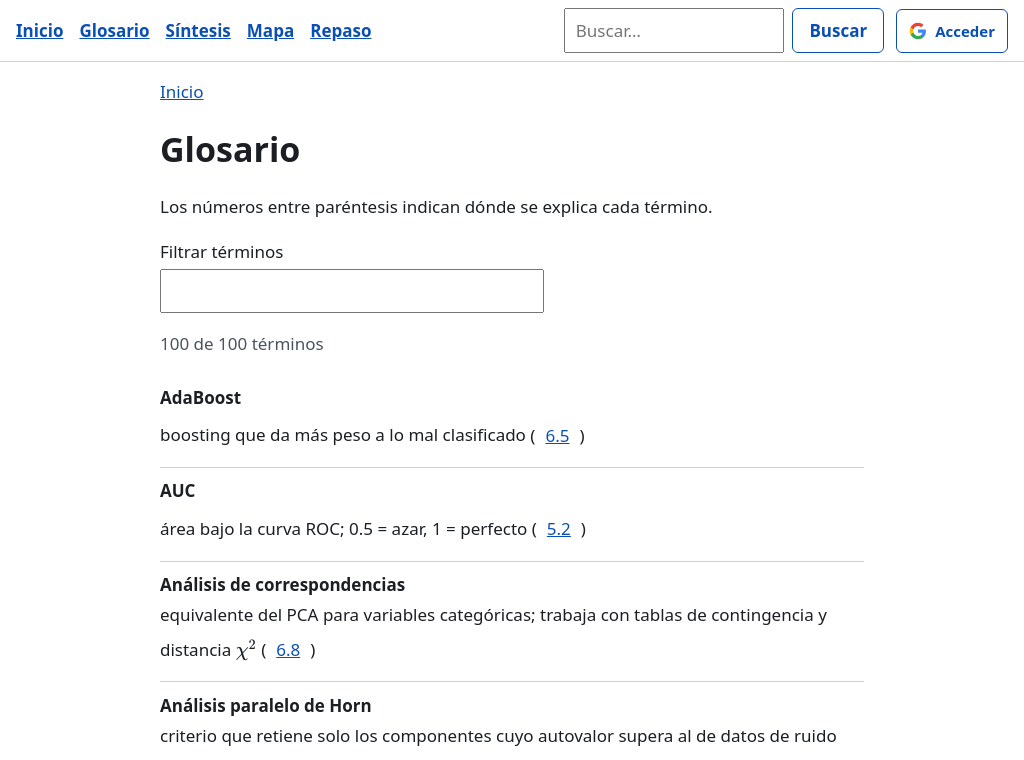
Test: glosario › sin coincidencias lo avisa
Type "zzzz" into the search field with id "glossary-filter" at (352, 291), box [160, 269, 544, 313]
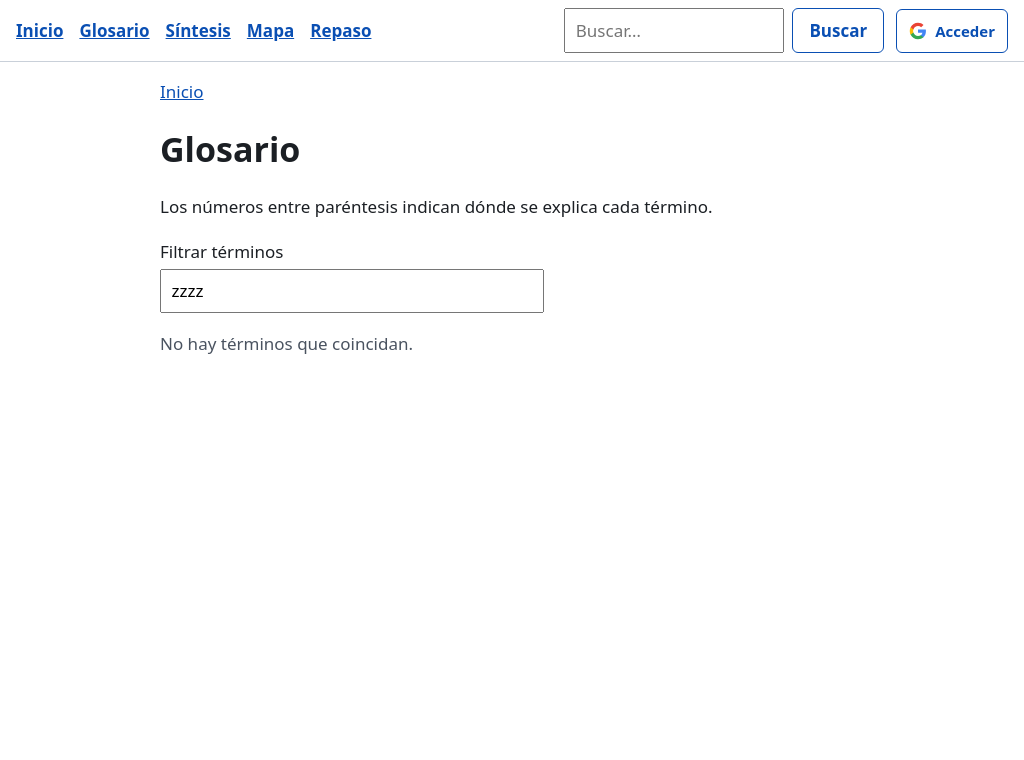
Now no elements with class "glossary__entry" are shown
Now the message with class "count" reads "No hay términos que coincidan.", box [160, 332, 413, 355]
